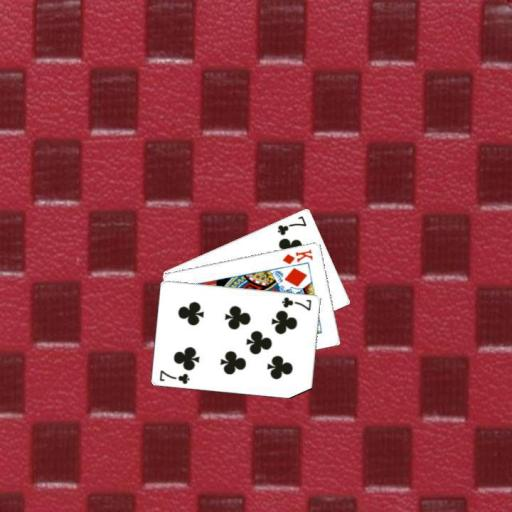7C: (274, 212, 308, 237), (157, 367, 192, 385), (279, 294, 313, 312)
KD: (280, 246, 315, 265)
